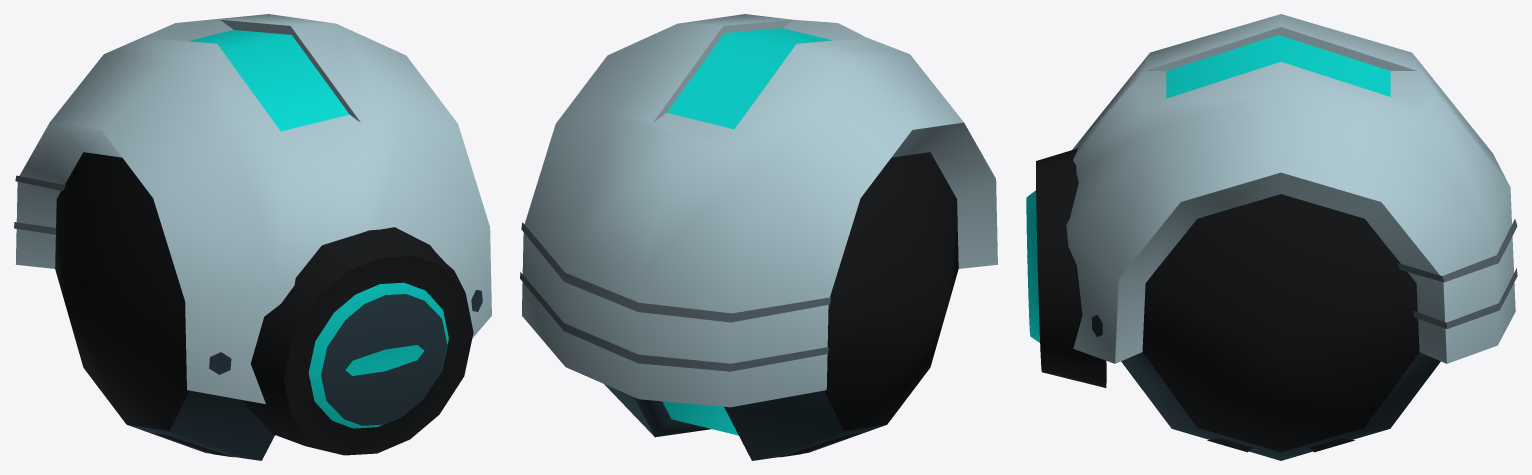
Rendered from grenade_Fusion.glb.
The picture shows the model from 3 angles, left to right: view 1: azimuth 30°, elevation 25°; view 2: azimuth 150°, elevation 25°; view 3: azimuth 270°, elevation 25°; orthographic projection. The views are drawn at different scales.
Visible parts, largest first — view 1: grenade_Fusion; view 2: grenade_Fusion; view 3: grenade_Fusion.
Boxes of the visible parts, left/top/right/bottom form: grenade_Fusion: left=14, top=14, right=491, bottom=460; grenade_Fusion: left=520, top=14, right=997, bottom=460; grenade_Fusion: left=1026, top=14, right=1517, bottom=460.
Bounding box in the file's own units: 0.1344 × 0.1387 × 0.1569.
